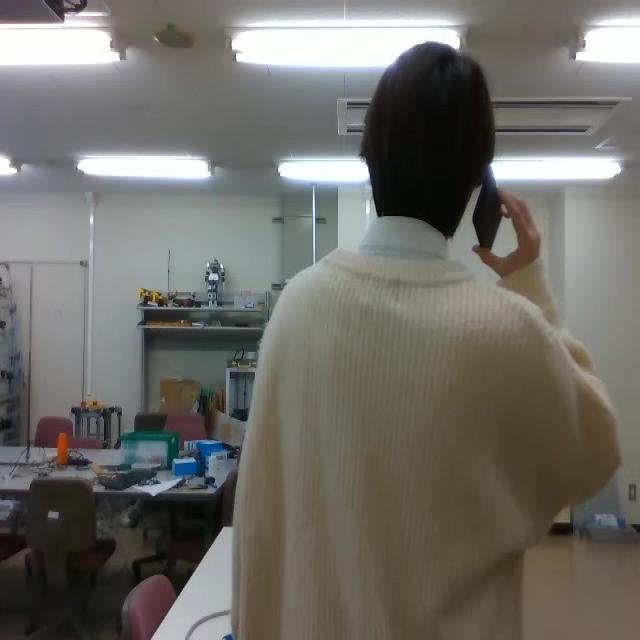Phone: (470, 164, 507, 254)
